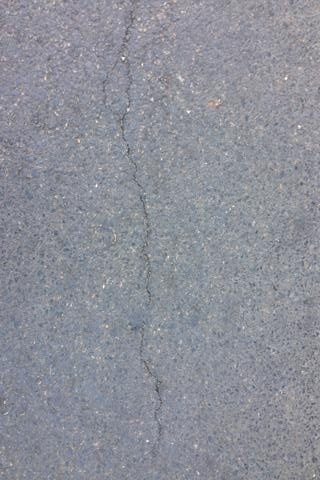A: (102, 5, 165, 456)
